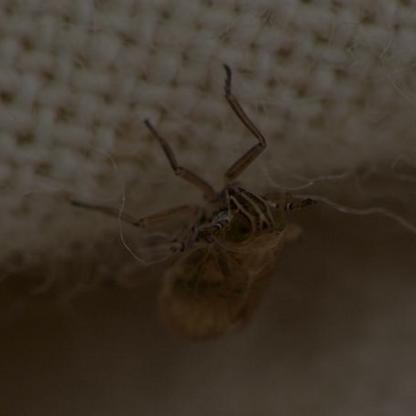brown-planthopper: (156, 178, 295, 340)
